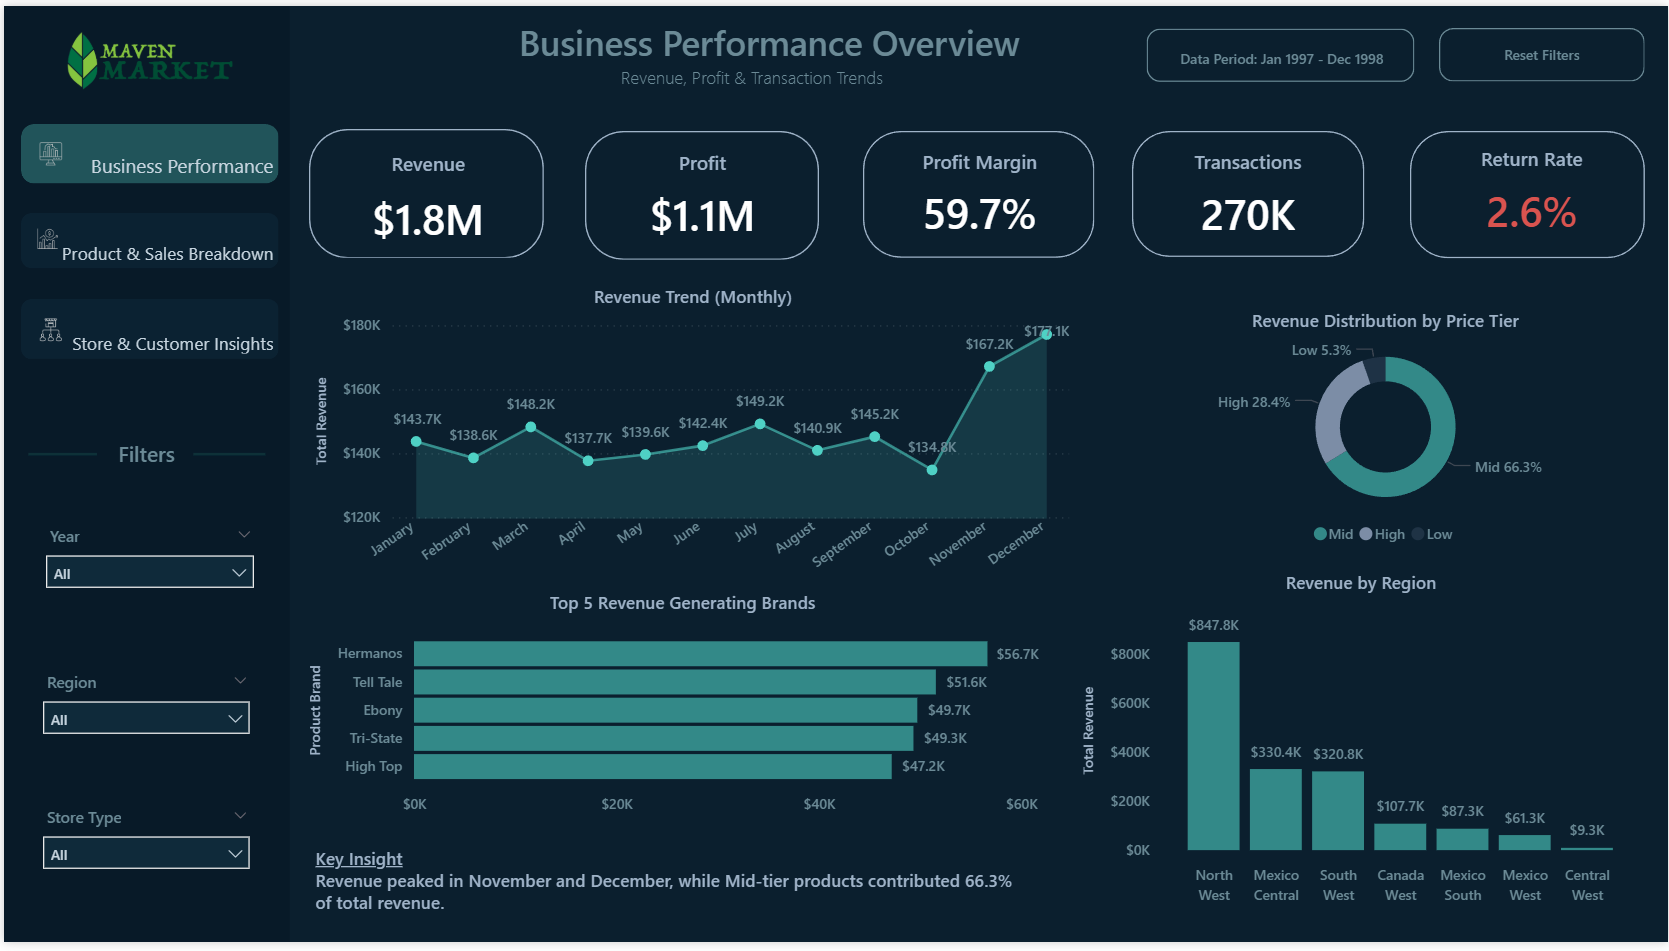

The page's visual inventory and layout, read from the dashboard file:
{"tool":"powerbi","page":{"name":"Business Performance","canvas":[1280,720],"ordinal":0},"visuals":[{"type":"shape","box":[0,0,219.9,719.8],"z":0},{"type":"group","id":"g1","title":"Group 6","box":[447,96.2,180,98.8],"z":0,"group":"g10"},{"type":"shape","box":[867.8,96.7,178.7,96.9],"z":0,"group":"g4"},{"type":"textbox","box":[46.2,328.4,127,39.9],"z":0,"group":"g9"},{"type":"textbox","box":[379.6,7.9,418.8,64.8],"z":1000},{"type":"group","id":"g2","title":"Group 7","box":[661,96.7,178,97.5],"z":1000,"group":"g10"},{"type":"shape","box":[661,96.7,178,97.5],"z":1000,"group":"g2"},{"type":"cardVisual","title":"Transactions","fields":{"Data":["Measures Table.Total Transactions"]},"box":[892.5,110,129.3,71.6],"z":1000,"group":"g4"},{"type":"shape","box":[137.5,332.3,71.3,24.9],"z":1000,"group":"g9"},{"type":"actionButton","title":"Performance Pulse","box":[13.1,91,198.3,45.8],"z":2000},{"type":"group","id":"g3","title":"Group 8","box":[1081.7,96.7,180.6,98.2],"z":2000,"group":"g10"},{"type":"shape","box":[10.5,332.3,68.7,24.9],"z":2000,"group":"g9"},{"type":"shape","box":[235,94.8,180.6,99.5],"z":3000,"group":"g5"},{"type":"shape","box":[447,96.2,180,99.1],"z":3000,"group":"g1"},{"type":"group","id":"g4","title":"Group 5","box":[867.8,96.7,178.7,96.9],"z":3000,"group":"g10"},{"type":"image","box":[27.1,104.7,18.3,18.3],"z":3000},{"type":"actionButton","title":"Performance Pulse","box":[13.1,159,198.3,42.5],"z":3000,"group":"g8"},{"type":"group","id":"g5","title":"Group 9","box":[235,94.8,180.6,99.5],"z":4000,"group":"g10"},{"type":"actionButton","title":"Performance Pulse","box":[13.1,225.1,198.3,46.5],"z":4000,"group":"g7"},{"type":"group","id":"g6","title":"Group 1","box":[10.5,328.4,198.3,39.9],"z":4000},{"type":"image","box":[24.5,170.1,18.3,18.3],"z":5000,"group":"g8"},{"type":"image","box":[27.1,239.5,18.3,18.3],"z":5000,"group":"g7"},{"type":"slicer","fields":{"Values":["Calendar.Year"]},"box":[22.2,394.5,180,60.2],"z":5000},{"type":"group","id":"g7","title":"Group 3","box":[13.1,225.1,198.3,46.5],"z":6000},{"type":"group","id":"g8","title":"Group 4","box":[13.1,159,198.3,42.5],"z":7000},{"type":"slicer","fields":{"Values":["Regions.sales_region"]},"box":[20.3,507,179.3,60.2],"z":8000},{"type":"slicer","fields":{"Values":["Stores.store_type"]},"box":[19.6,611.1,179.3,60.2],"z":9000},{"type":"group","id":"g9","title":"Group 2","box":[10.5,328.4,198.3,39.9],"z":9004,"group":"g6"},{"type":"image","box":[22.2,17,179.3,50.4],"z":10000},{"type":"actionButton","box":[1104,17,158.4,41.2],"z":11000},{"type":"group","id":"g10","title":"Group 10","box":[235,94.8,1027.4,100.3],"z":12000},{"type":"lineChart","title":"Revenue Trend (Monthly)","fields":{"Y":["Measures Table.Total Revenue"],"Category":["Calendar.Start of Month.Variation.Date Hierarchy.Month"]},"box":[235.3,214.7,589.3,228.7],"z":13000},{"type":"donutChart","title":"Revenue Distribution by Price Tier","fields":{"Category":["Products.Price_Tier"],"Y":["Measures Table.Total Revenue"]},"box":[863.1,233,399.2,191.1],"z":14000},{"type":"clusteredBarChart","title":"Top 5 Revenue Generating Brands","fields":{"Category":["Products.product_brand"],"Y":["Measures Table.Total Revenue"]},"box":[235.6,450.2,574.6,176.7],"z":15000},{"type":"cardVisual","title":"Revenue","fields":{"Data":["Measures Table.Total Revenue"]},"box":[260.4,110.6,132.8,76.8],"z":16000,"group":"g5"},{"type":"clusteredColumnChart","title":"Revenue by Region","fields":{"Category":["Regions.sales_region"],"Y":["Measures Table.Total Revenue"]},"box":[825.2,434.5,437.1,263.7],"z":16000},{"type":"cardVisual","fields":{"Data":["Measures Table.Data Period"]},"box":[876.9,15.7,210.7,45.8],"z":17000},{"type":"cardVisual","title":"Profit","fields":{"Data":["Measures Table.Total Profit"]},"box":[483.1,109.9,108.4,72.9],"z":17000,"group":"g1"},{"type":"cardVisual","title":"Profit Margin","fields":{"Data":["Measures Table.Profit Margin"]},"box":[696.9,109.7,107.4,71],"z":18000,"group":"g2"},{"type":"textbox","box":[234.9,641.3,558.9,73.9],"z":18000},{"type":"shape","box":[1081.7,96.7,180.7,97.9],"z":18500,"group":"g3"},{"type":"cardVisual","title":"Return Rate","fields":{"Data":["Measures Table.Return Rate %"]},"box":[1120.6,107.5,109,71.4],"z":19000,"group":"g3"}]}

Visuals, with their boxes in screenshot pixels (x1, y1, x2, y2), scaled from the page's 1280x720 canvas onto the 1669x951 screenshot:
shape: 0:0:287:950
"Group 6" group: 583:127:818:258
shape: 1132:128:1365:256
textbox: 60:434:226:486
textbox: 495:10:1041:96
"Group 7" group: 862:128:1094:257
shape: 862:128:1094:257
"Transactions" cardVisual: 1164:145:1332:240
shape: 179:439:272:472
"Performance Pulse" actionButton: 17:120:276:181
"Group 8" group: 1410:128:1646:257
shape: 14:439:103:472
shape: 306:125:542:257
shape: 583:127:818:258
"Group 5" group: 1132:128:1365:256
image: 35:138:59:162
"Performance Pulse" actionButton: 17:210:276:266
"Group 9" group: 306:125:542:257
"Performance Pulse" actionButton: 17:297:276:359
"Group 1" group: 14:434:272:486
image: 32:225:56:249
image: 35:316:59:341
slicer - Calendar.Year: 29:521:264:601
"Group 3" group: 17:297:276:359
"Group 4" group: 17:210:276:266
slicer - Regions.sales_region: 26:670:260:749
slicer - Stores.store_type: 26:807:259:887
"Group 2" group: 14:434:272:486
image: 29:22:263:89
actionButton: 1440:22:1646:77
"Group 10" group: 306:125:1646:258
"Revenue Trend (Monthly)" lineChart: 307:284:1075:586
"Revenue Distribution by Price Tier" donutChart: 1125:308:1646:560
"Top 5 Revenue Generating Brands" clusteredBarChart: 307:595:1056:828
"Revenue" cardVisual: 340:146:513:248
"Revenue by Region" clusteredColumnChart: 1076:574:1646:922
cardVisual - Measures Table.Data Period: 1143:21:1418:81
"Profit" cardVisual: 630:145:771:241
"Profit Margin" cardVisual: 909:145:1049:239
textbox: 306:847:1035:945
shape: 1410:128:1646:257
"Return Rate" cardVisual: 1461:142:1603:236
